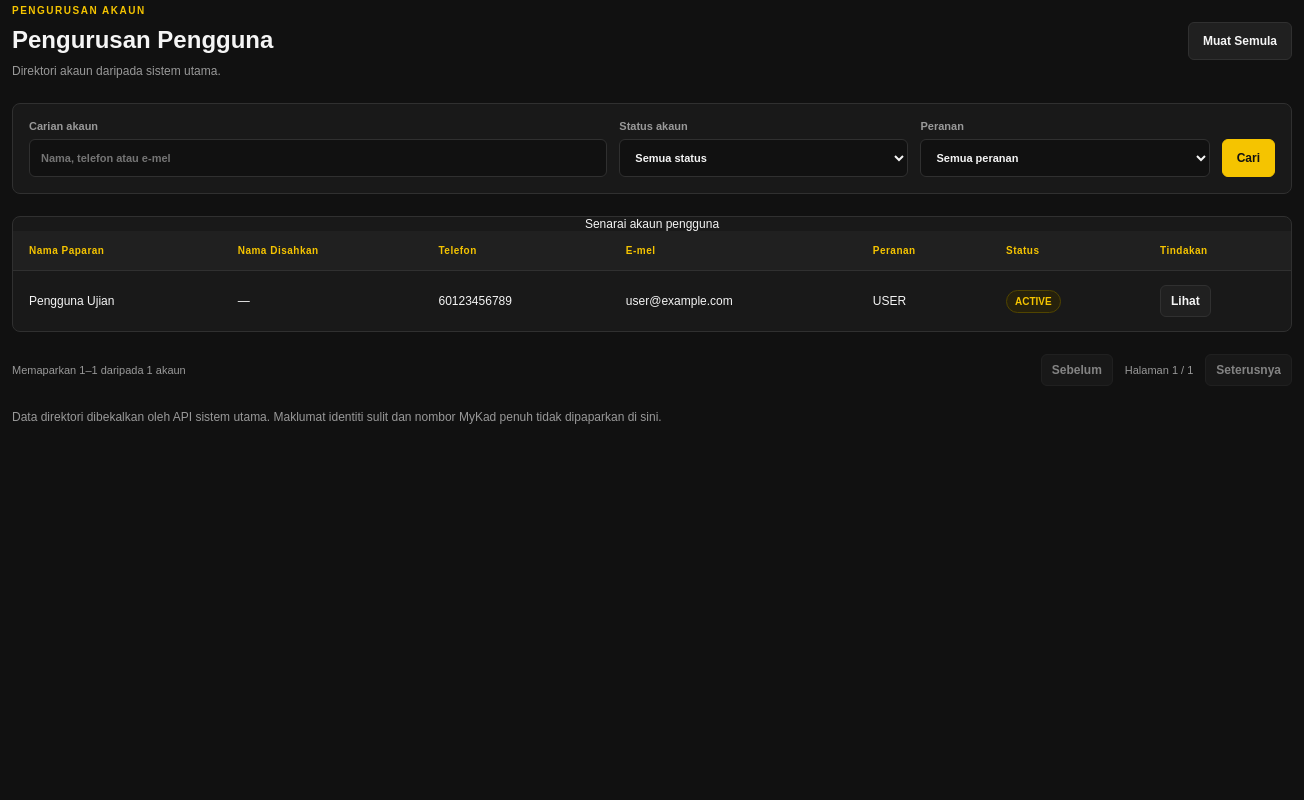
Test case: AccountsPage › tidak memaparkan tindakan jika permission tiada
Expected: the text "Pengguna Ujian" is shown, [13,271,222,331]
Click the button "Lihat": (1185, 301) [1160,285,1211,317]
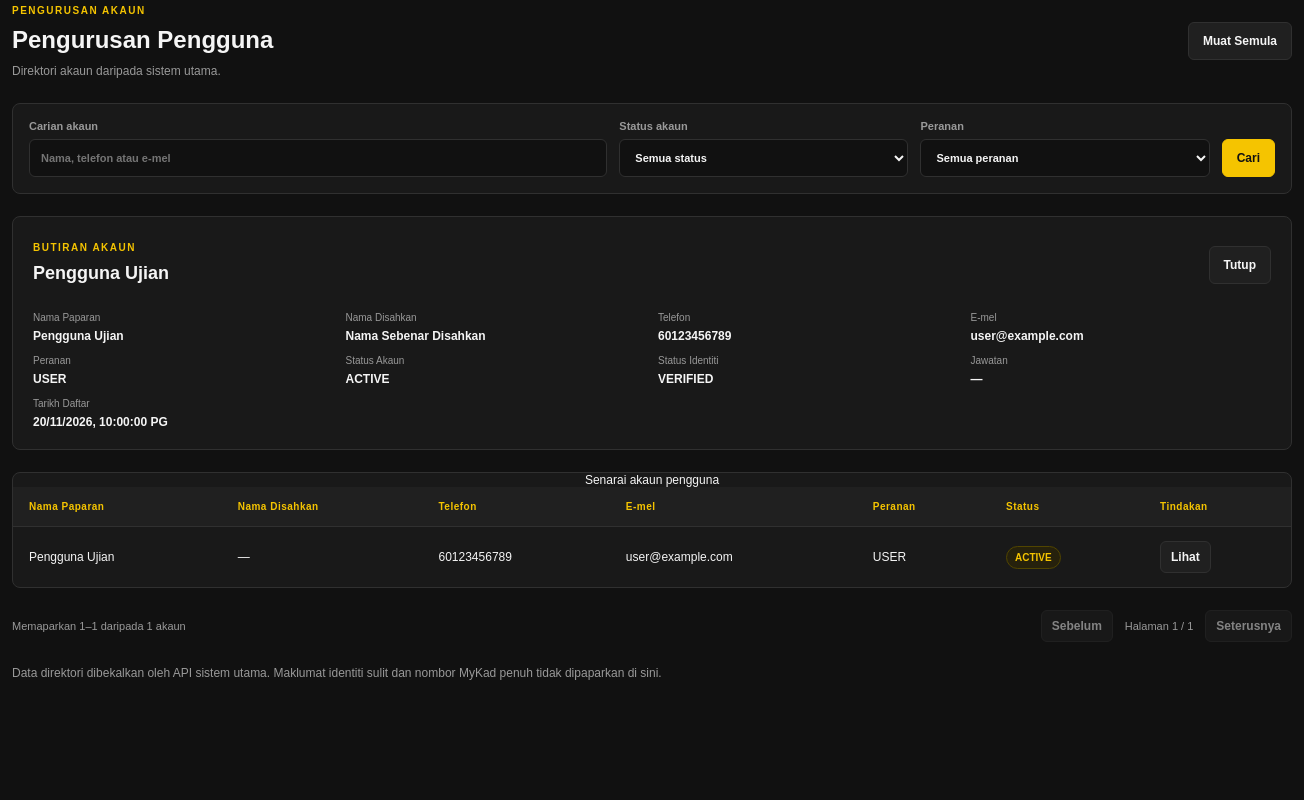
Result: the text "Nama Sebenar Disahkan" is shown at [346,329,486,343]
